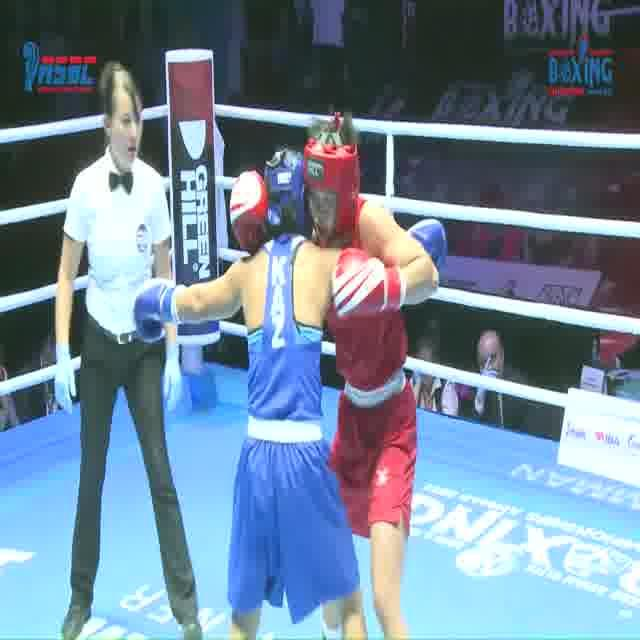blue-player: (129, 146, 452, 640)
red-player: (224, 111, 445, 640)
referee: (47, 60, 210, 640)
